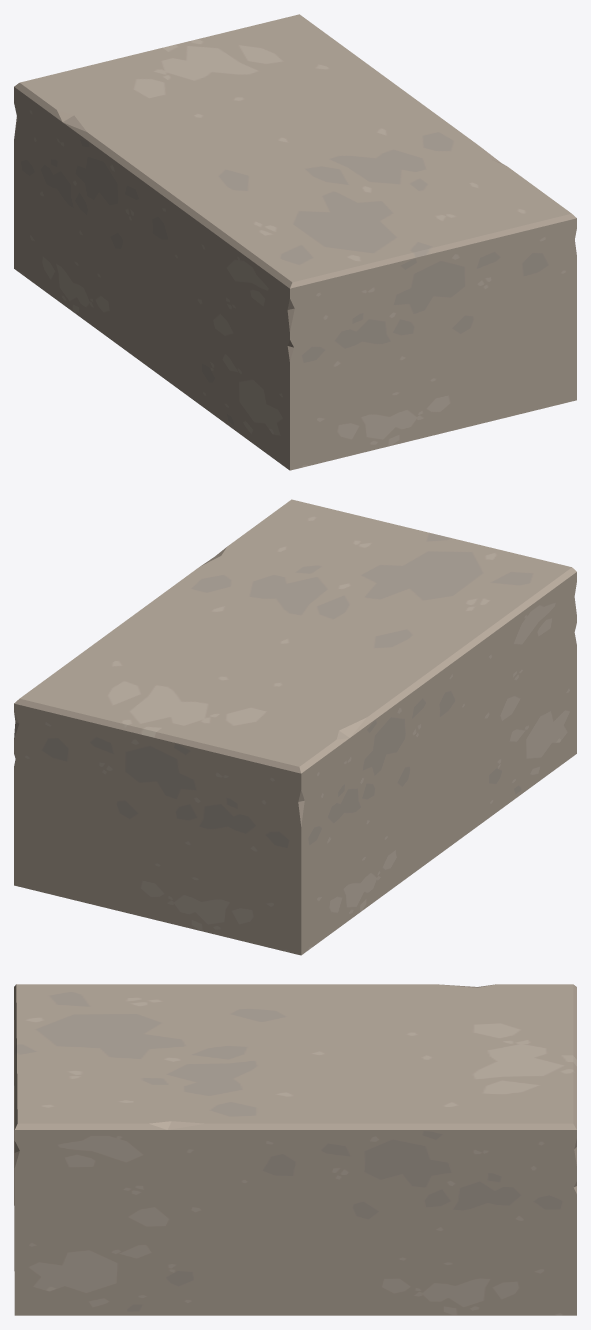
Rendered from SM_Bld_Village_House_Plinth_02.fbx.
3 views of the same model, one above another, from view 1: azimuth 30°, elevation 25°; view 2: azimuth 150°, elevation 25°; view 3: azimuth 270°, elevation 25° (orthographic). The views are drawn at different scales.
Visible parts, largest first — view 1: SM_Bld_Village_House_Plinth_02; view 2: SM_Bld_Village_House_Plinth_02; view 3: SM_Bld_Village_House_Plinth_02.
Part boxes in pixels (x1=…): SM_Bld_Village_House_Plinth_02: x1=14, y1=14, x2=576, y2=470; SM_Bld_Village_House_Plinth_02: x1=14, y1=499, x2=576, y2=955; SM_Bld_Village_House_Plinth_02: x1=14, y1=984, x2=576, y2=1315.
Size of the model in its own units: 761 by 472 by 1265.
